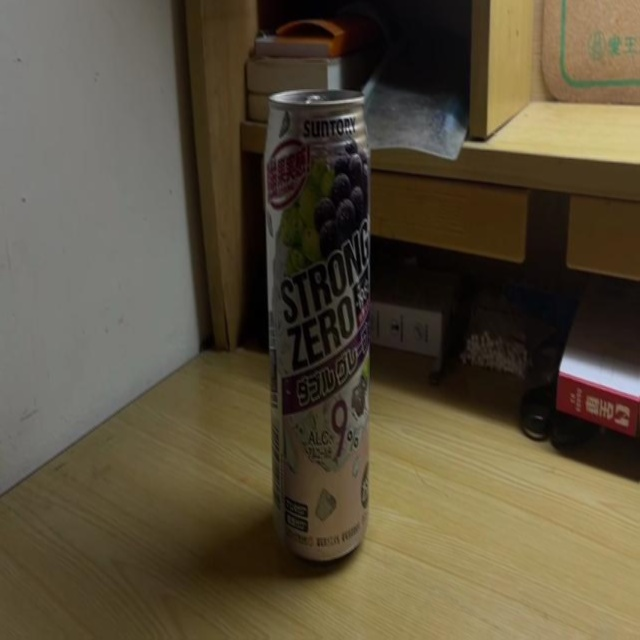Liquor: (268, 89, 372, 567)
